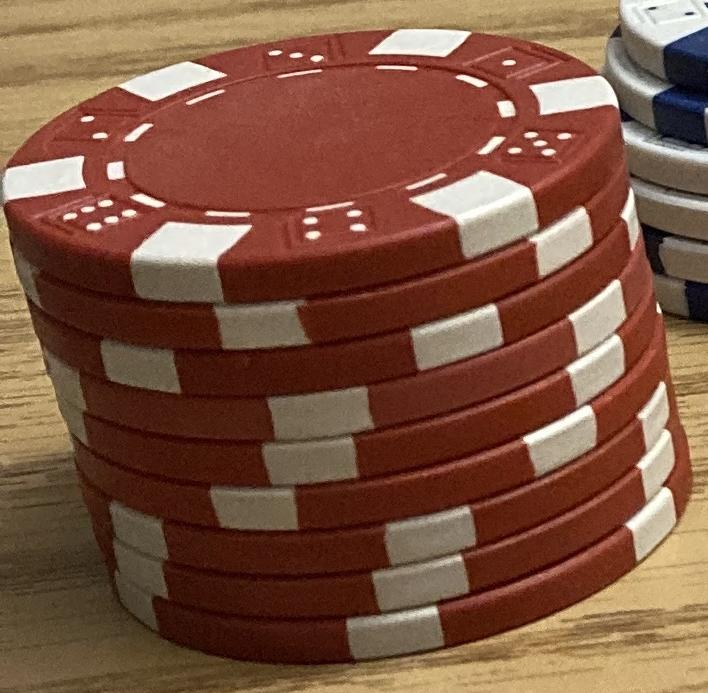Chip: (1, 1, 708, 693)
